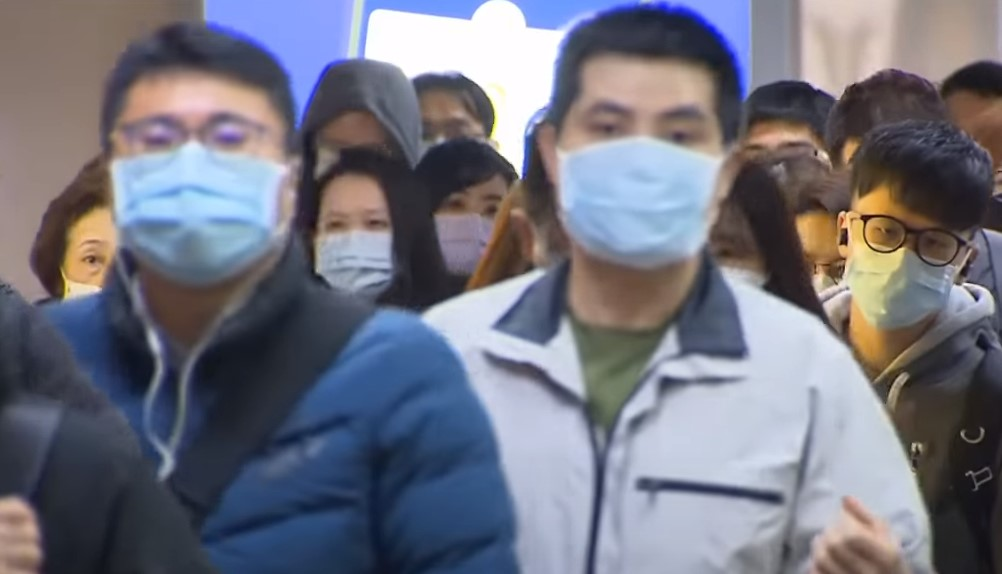face_with_mask: (537, 11, 748, 275), (99, 21, 304, 291), (835, 118, 994, 336), (318, 166, 421, 296), (421, 152, 514, 276)
